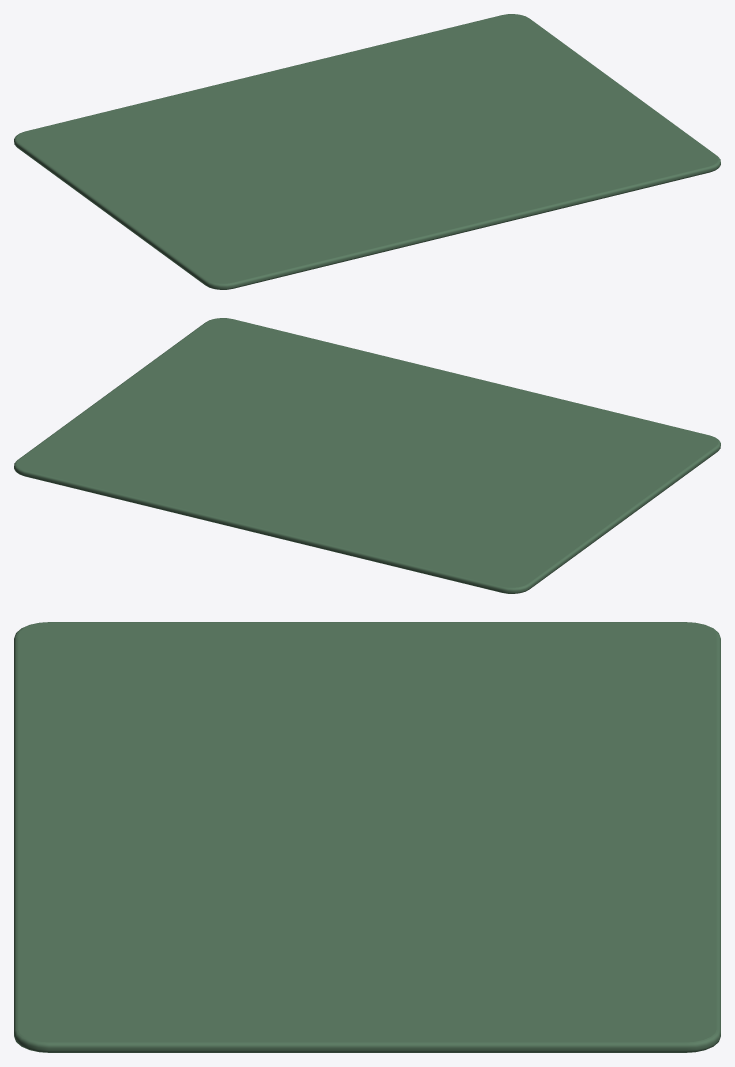
Rendered from t200_mounts.obj.
3 views of the same model, one above another, from view 1: azimuth 30°, elevation 25°; view 2: azimuth 150°, elevation 25°; view 3: azimuth 270°, elevation 25° (orthographic). The views are drawn at different scales.
Parts seen in each view (by area): view 1: t200_mounts; view 2: t200_mounts; view 3: t200_mounts.
Boxes of the visible parts, x1=… form: t200_mounts: x1=14, y1=14, x2=720, y2=289; t200_mounts: x1=14, y1=318, x2=720, y2=593; t200_mounts: x1=14, y1=622, x2=720, y2=1052.
Size of the model in its own units: 7.2 by 0.24 by 5.08.
